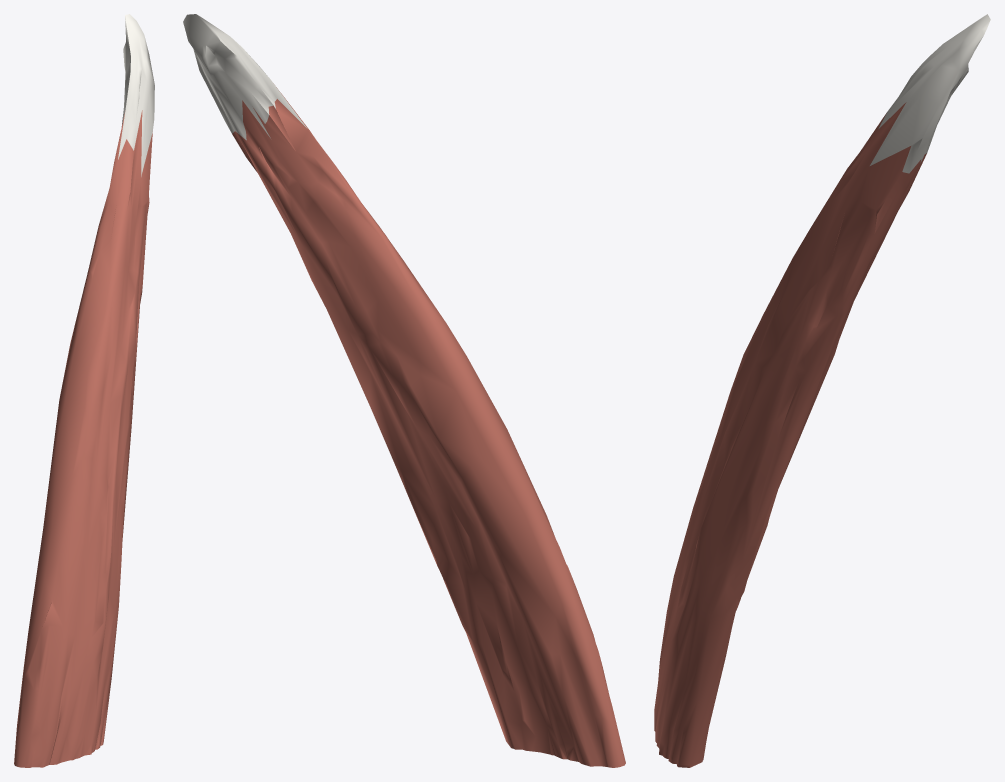
Rendered from flechisseur-radial-carpe.glb.
The picture shows the model from 3 angles, left to right: view 1: azimuth 30°, elevation 25°; view 2: azimuth 150°, elevation 25°; view 3: azimuth 270°, elevation 25°; orthographic projection. The views are drawn at different scales.
Parts seen in each view (by area): view 1: flechisseur-radial-carpe; view 2: flechisseur-radial-carpe; view 3: flechisseur-radial-carpe.
Boxes of the visible parts, x1,y1,x2,y2 form: flechisseur-radial-carpe: [14, 14, 154, 767]; flechisseur-radial-carpe: [183, 14, 625, 767]; flechisseur-radial-carpe: [654, 14, 990, 767].
Bounding box in the file's own units: 0.0601 × 0.1493 × 0.054.
